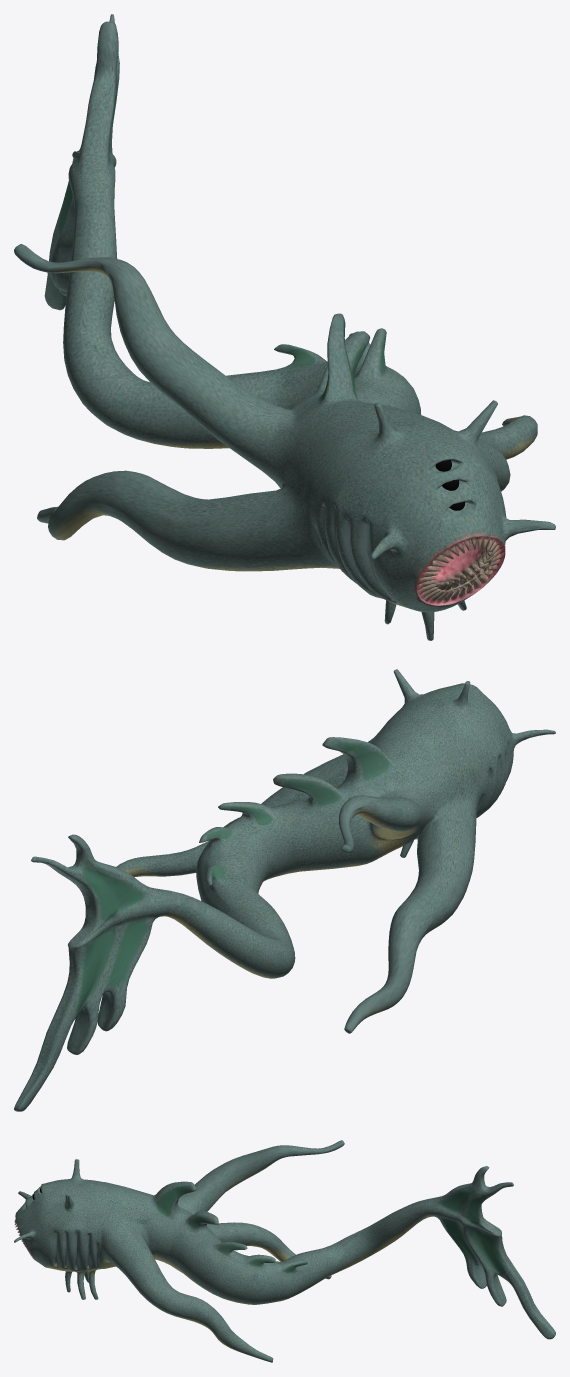
File: MZ4250 - Aboleth 2.glb
3 views of the same model, one above another, from view 1: azimuth 30°, elevation 25°; view 2: azimuth 150°, elevation 25°; view 3: azimuth 270°, elevation 25° (orthographic). The views are drawn at different scales.
Visible parts, largest first — view 1: default; view 2: default; view 3: default.
Part boxes in pixels (<box>): default: <box>14,14,555,640</box>; default: <box>14,669,555,1111</box>; default: <box>14,1140,555,1362</box>.
Bounding box in the file's own units: 1.1 × 0.7857 × 2.28.
Materials: 1 (1 with a texture image).
